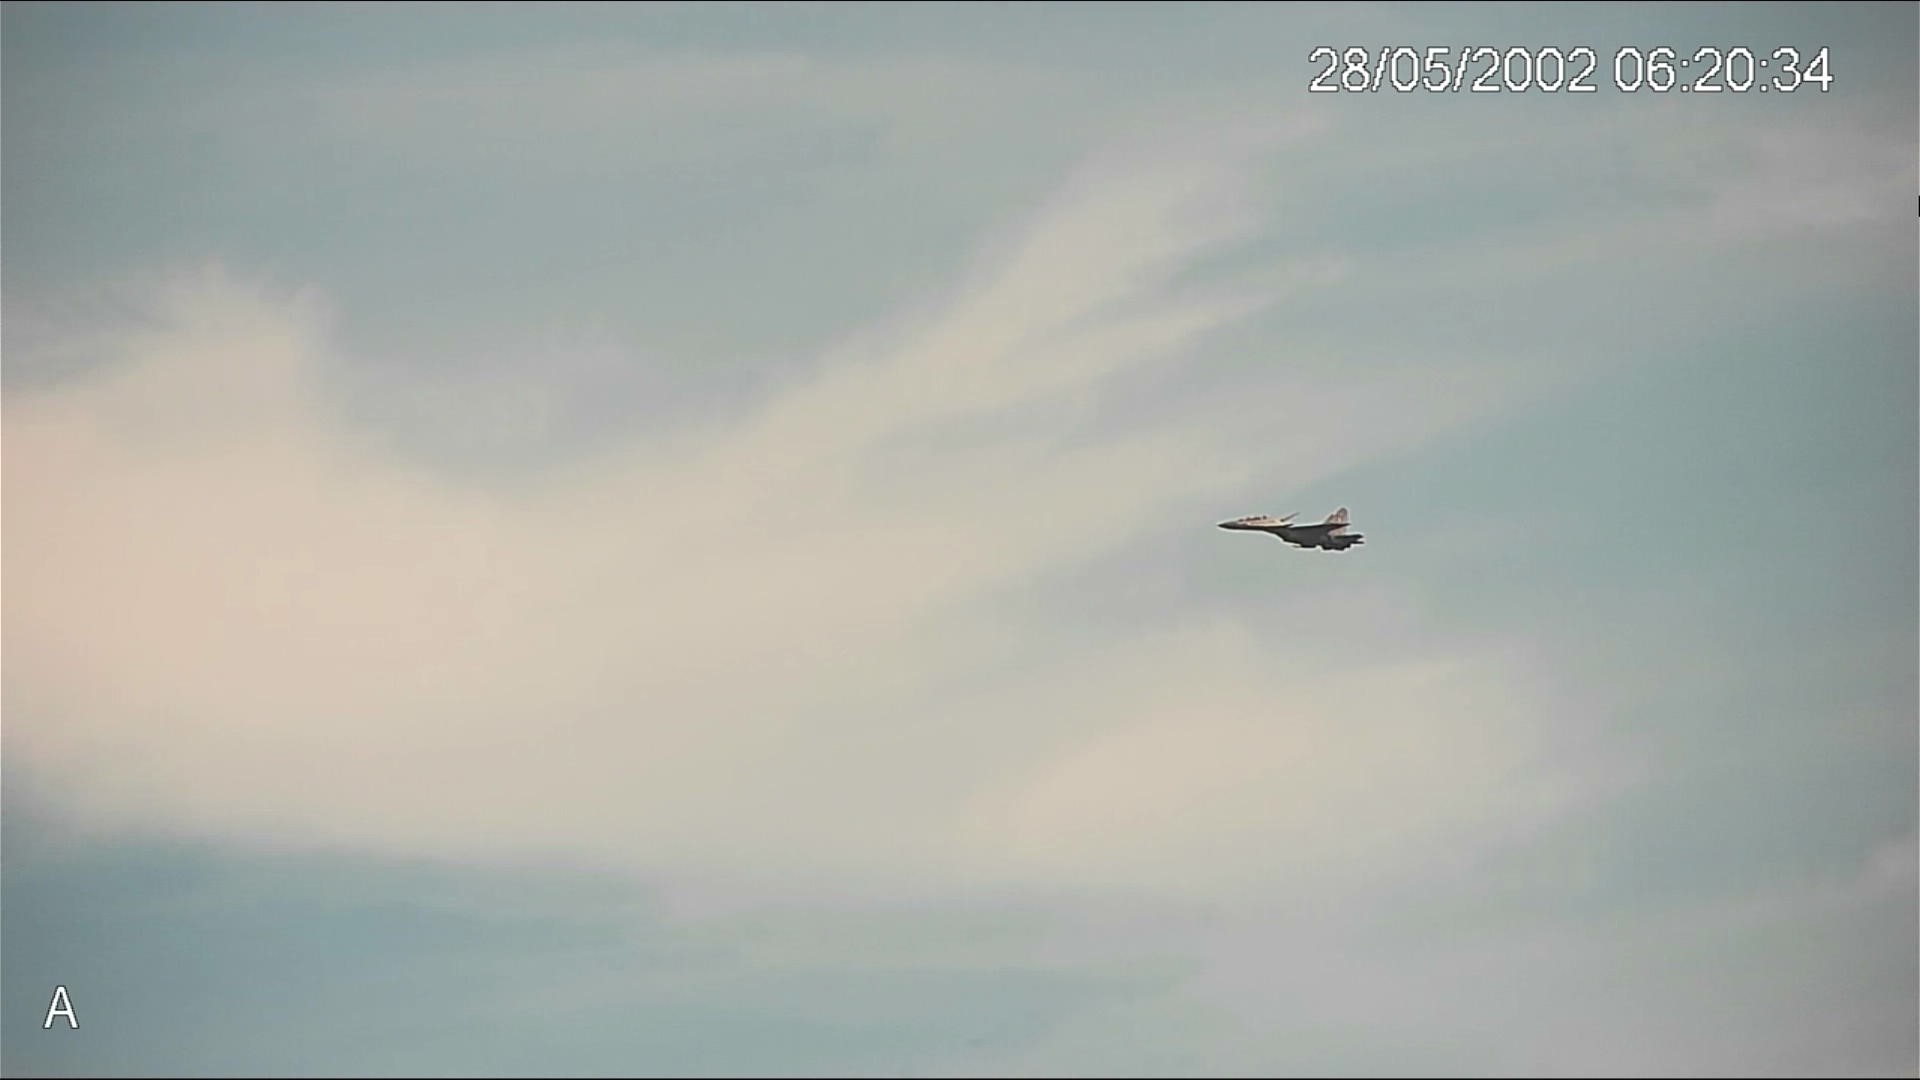SU_30: (1209, 506, 1371, 564)
